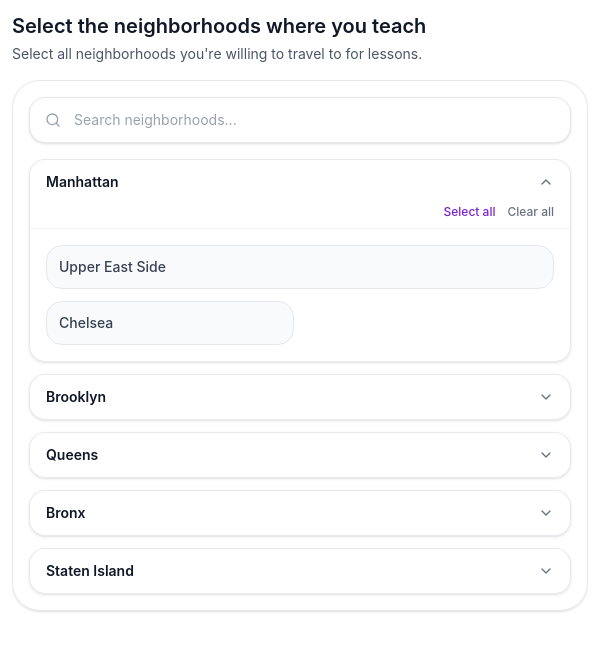
Scenario: NeighborhoodSelector › restores the manual expansion state after search clears and ignores header clicks while searching
Click the button with test id "neighborhood-borough-bronx" at (66, 512), box [46,503,554,523]
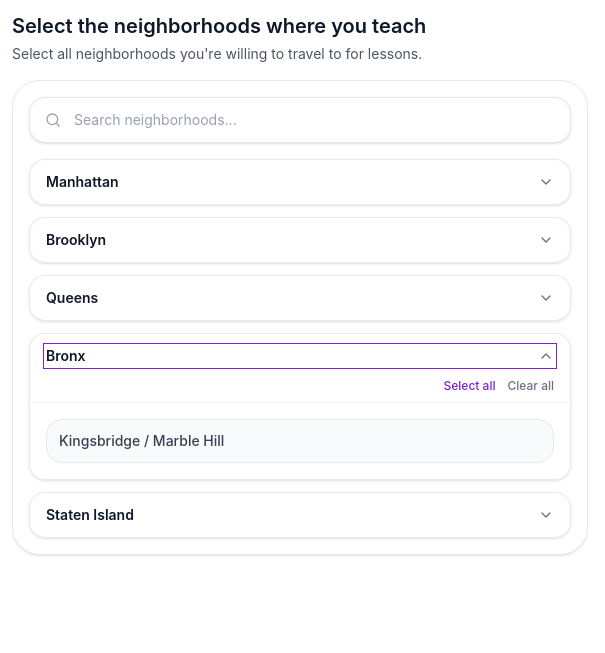
Expected: the button with test id "neighborhood-borough-bronx" is expanded, [46,346,554,366]
Expected: the button with test id "neighborhood-borough-manhattan" is collapsed, [46,172,554,192]
Type "upper" into the field with test id "neighborhood-search-input" at (300, 120), box [29,97,571,143]
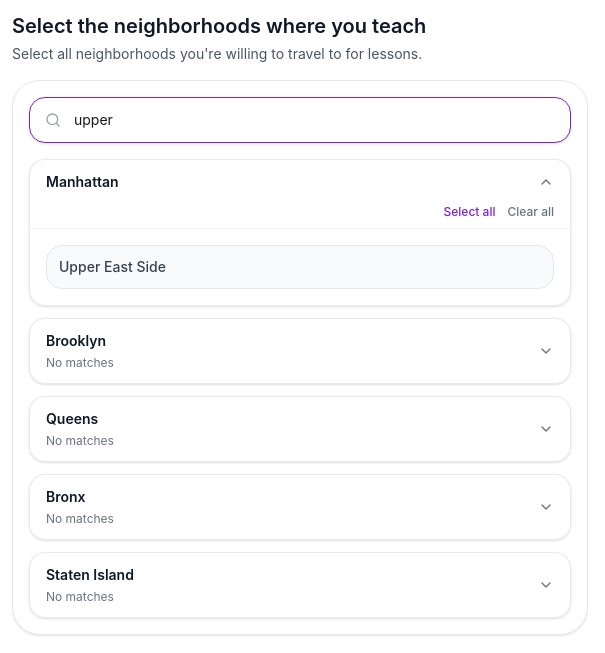
Expected: the button with test id "neighborhood-borough-manhattan" is expanded
Click the button with test id "neighborhood-borough-manhattan" at (82, 182), box [46,172,554,192]
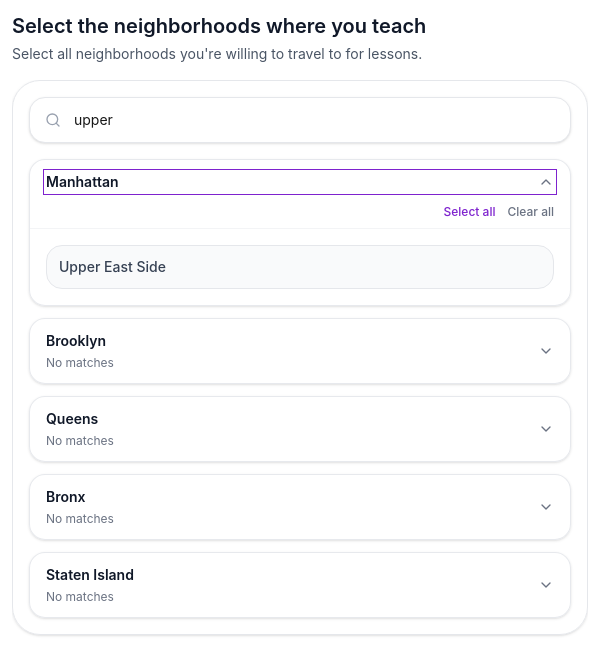
Expected: the button with test id "neighborhood-borough-manhattan" is expanded, [46,172,554,192]
Clear the field with test id "neighborhood-search-input" at (300, 120), box [29,97,571,143]
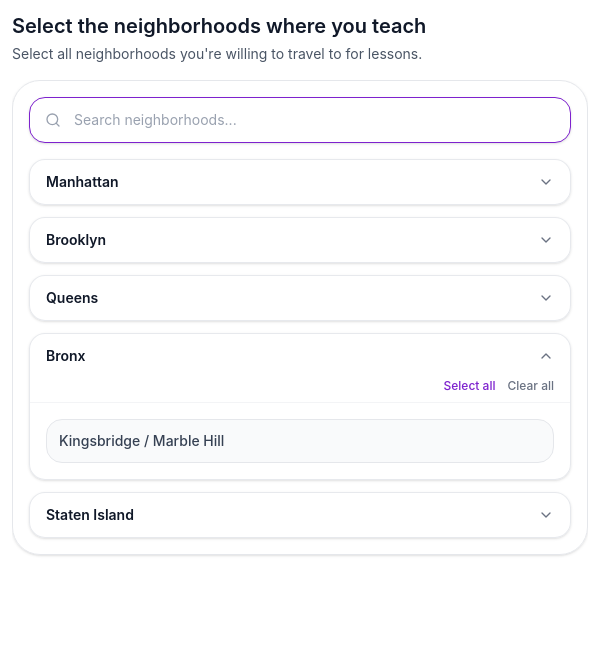
Expected: the button with test id "neighborhood-borough-manhattan" is collapsed, [46,172,554,192]
Expected: the button with test id "neighborhood-borough-bronx" is expanded, [46,346,554,366]
